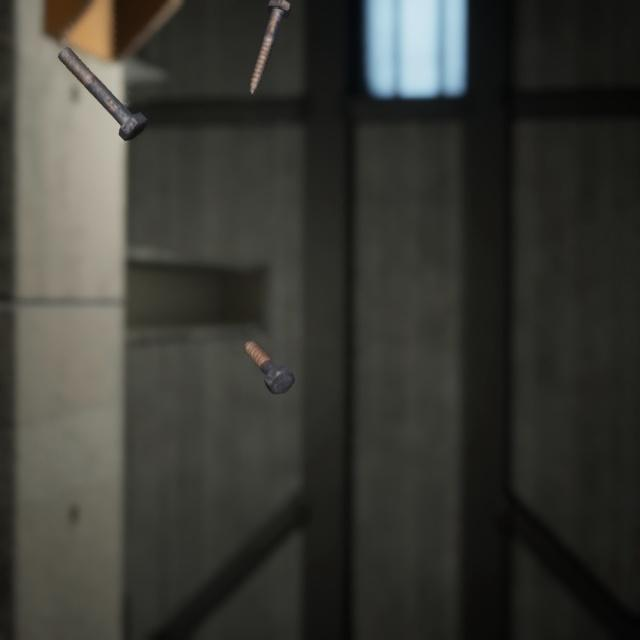bolt: (53, 32, 151, 134), (244, 0, 295, 89), (240, 316, 299, 379)
